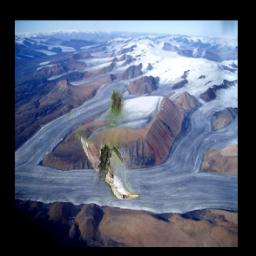Cuckoo: (60, 89, 140, 200)
